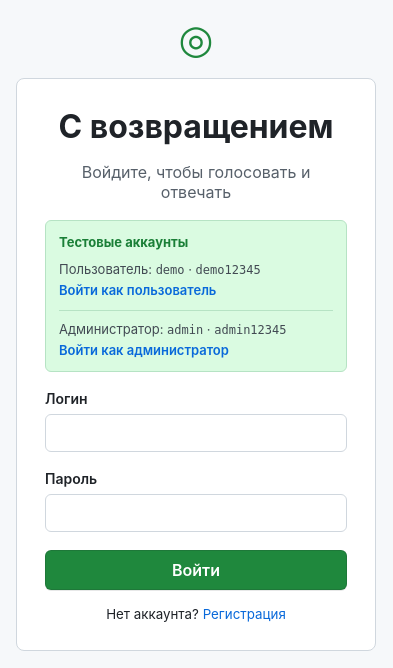
demo login › shows a loader and prevents repeated input while login is pending
Type "demo" into the field labelled "Логин" at x=196, y=433, box [45, 414, 347, 452]
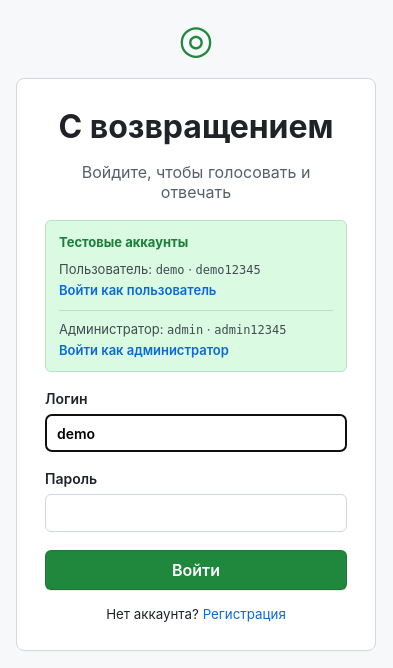
Type "demo12345" into the password field labelled "Пароль" at x=196, y=513, box [45, 494, 347, 532]
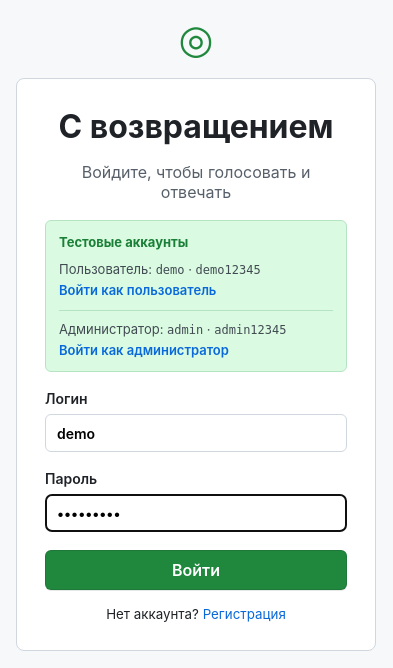
Click the button "Войти" at x=196, y=570, box [45, 550, 347, 590]
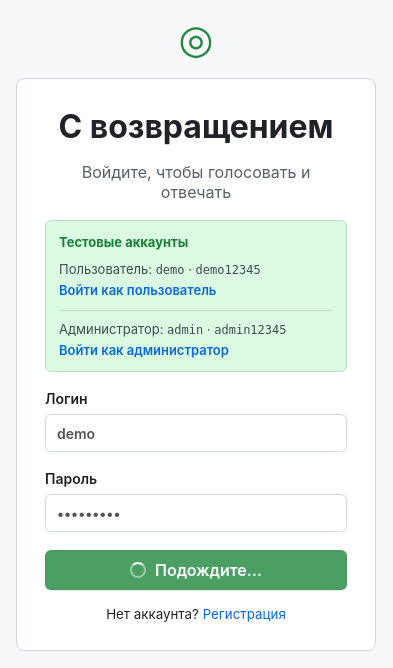
Check: the button "Подождите…" is disabled, box [45, 550, 347, 590]
Check: the button with class "button-spinner" is shown, box [130, 562, 146, 578]
Check: the field labelled "Логин" is disabled, box [45, 414, 347, 452]
